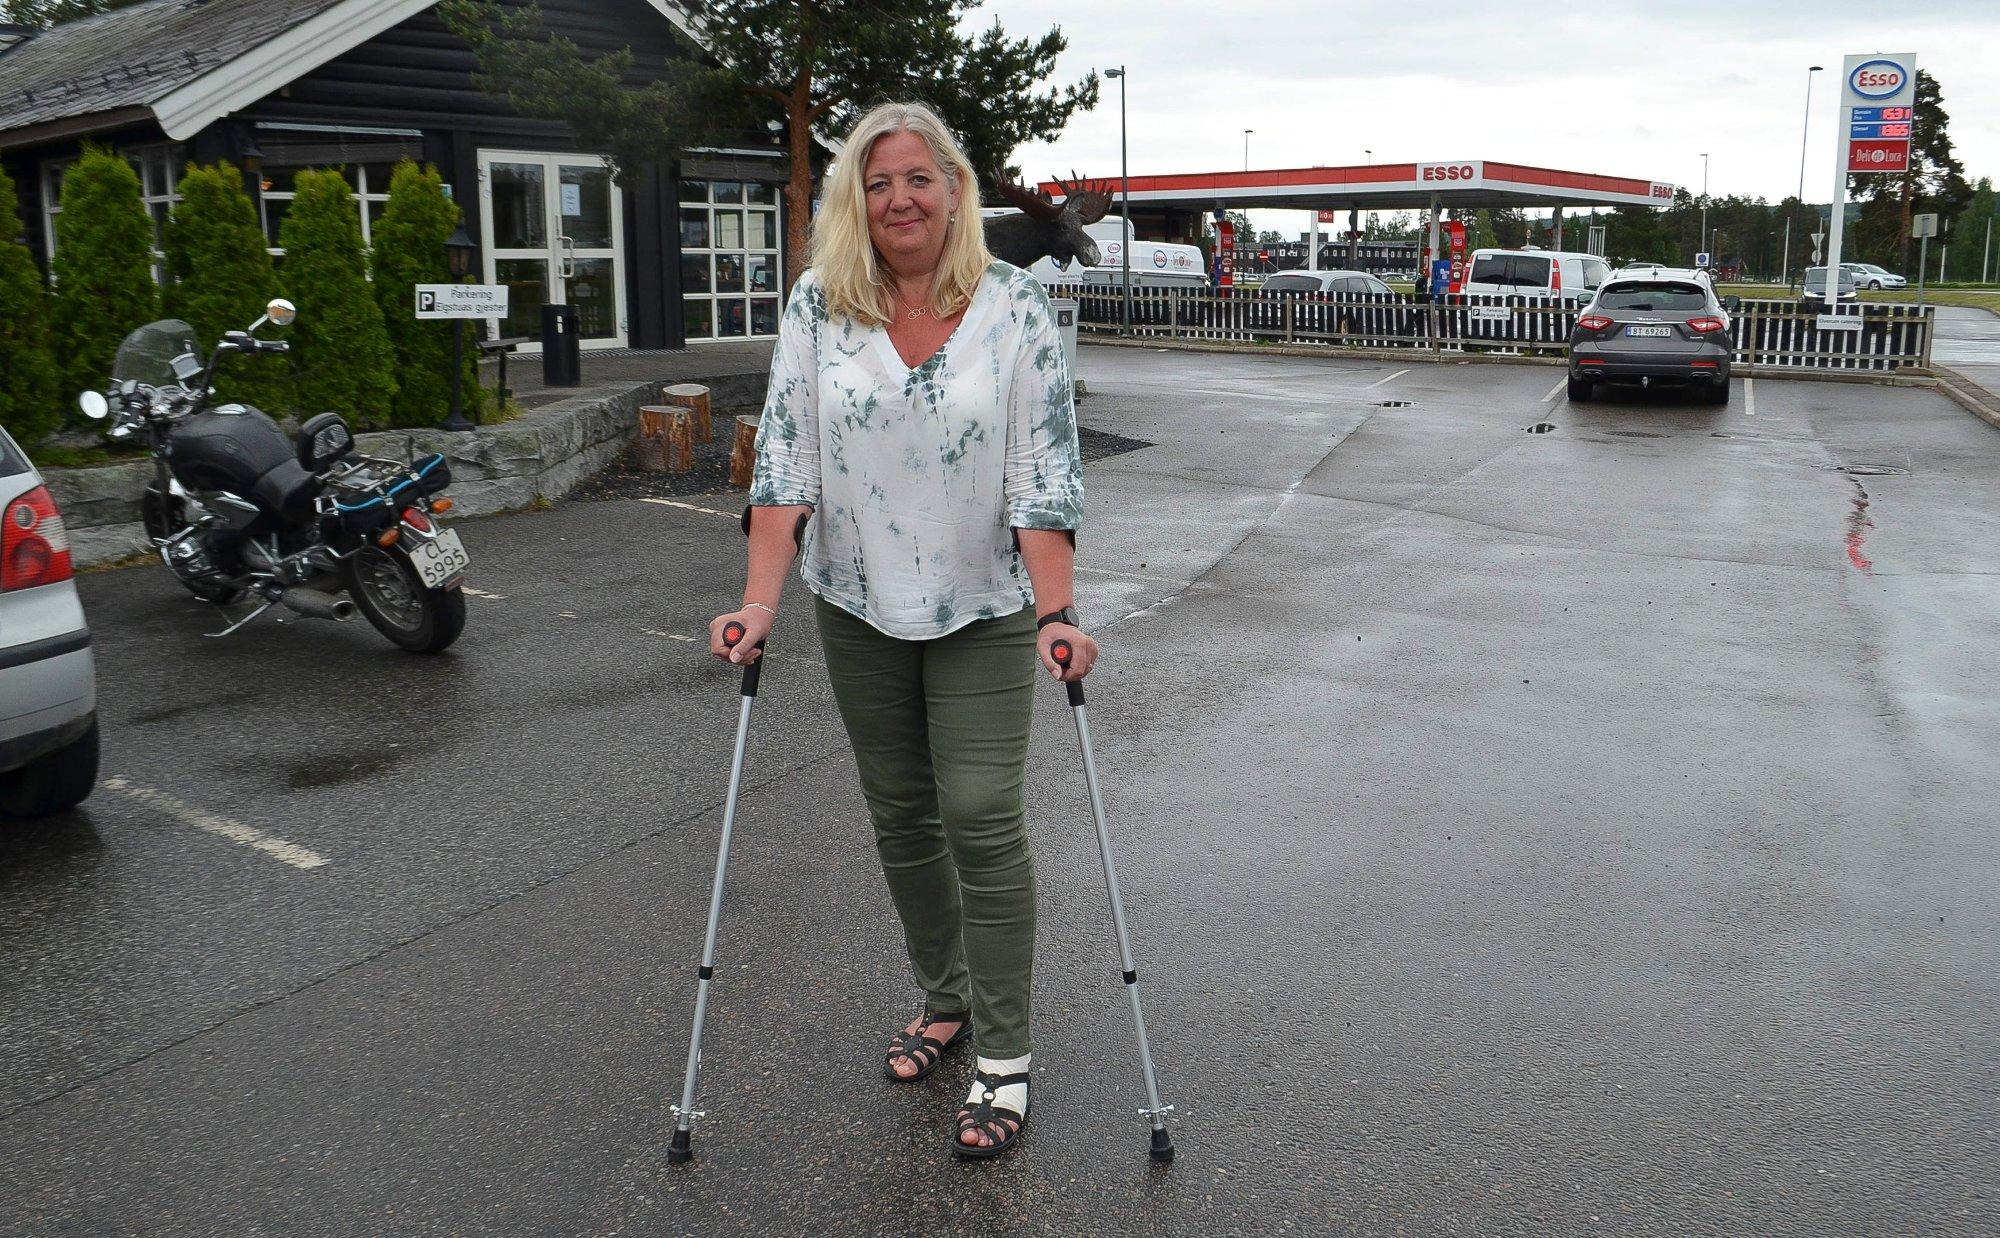crutches: (666, 106, 1173, 1161)
